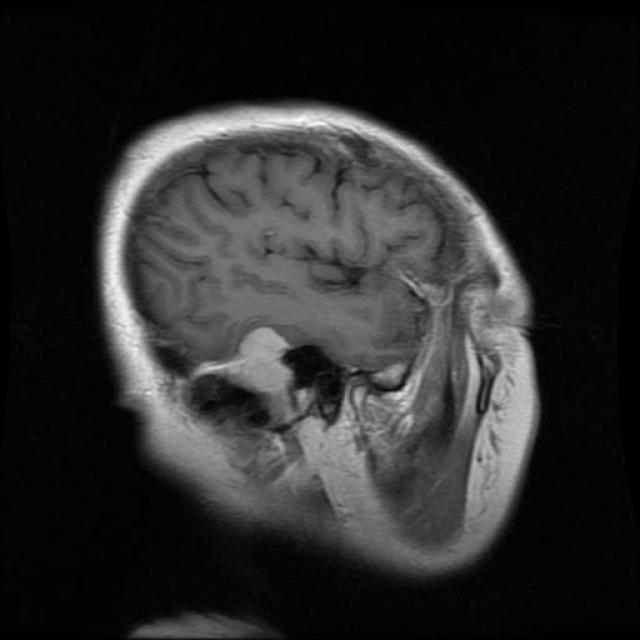meningioma: (246, 326, 285, 354)
